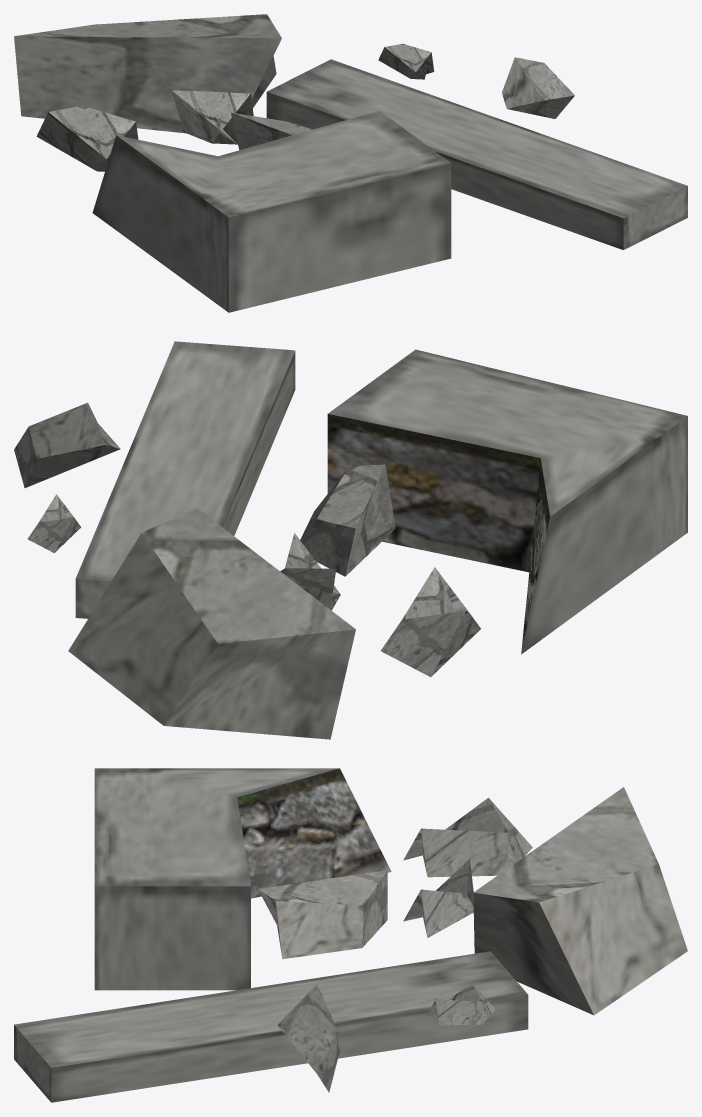
File: PavementRubble03.fbx
3 views of the same model, one above another, from view 1: azimuth 30°, elevation 25°; view 2: azimuth 150°, elevation 25°; view 3: azimuth 270°, elevation 25° (orthographic). The views are drawn at different scales.
Parts seen in each view (by area): view 1: PavementRubble03; view 2: PavementRubble03; view 3: PavementRubble03.
Boxes of the visible parts, x1,y1,x2,y2 form: PavementRubble03: (14,14,687,312); PavementRubble03: (14,341,687,739); PavementRubble03: (14,768,687,1102).
Bounding box in the file's own units: 14.4 × 2.92 × 17.22.
